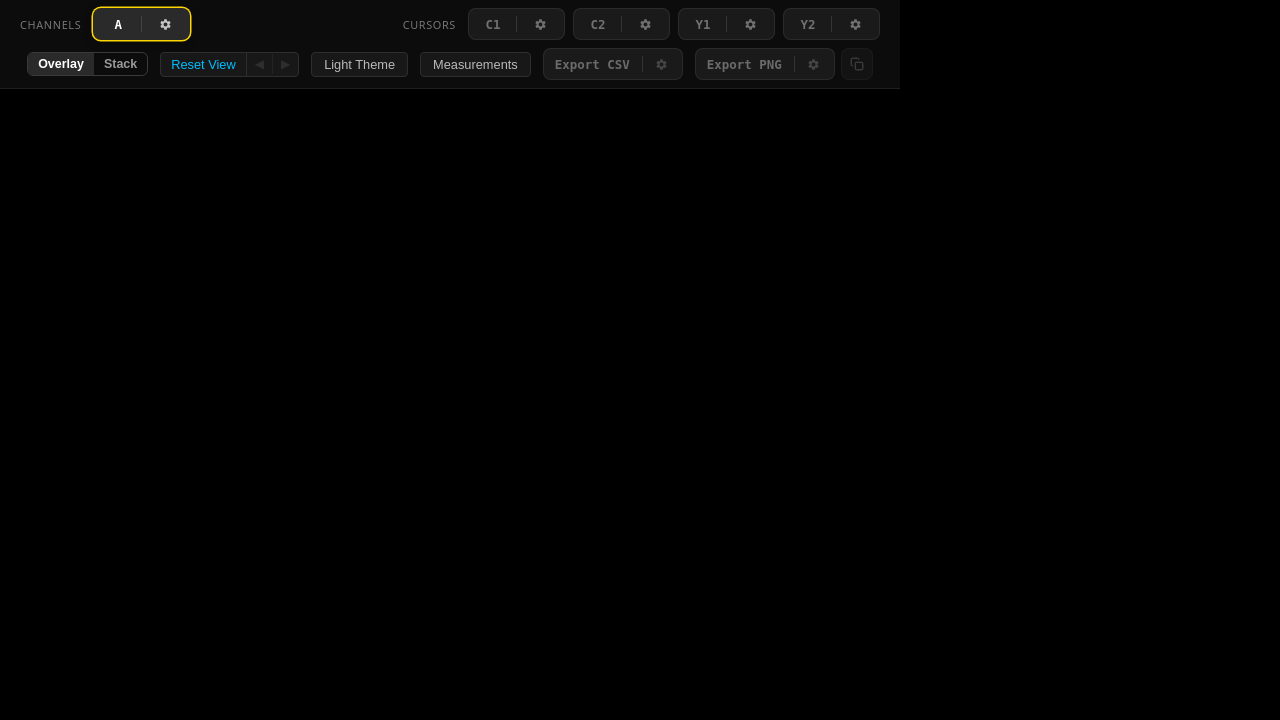
Test: WaveformToolbar (browser) › AC (#204): gear opens the config popover; retired Colors panel is gone; badge colors follow overrides
Click the button with test id "channel-gear-A".
click(166, 24)  # box [142,0,190,48]
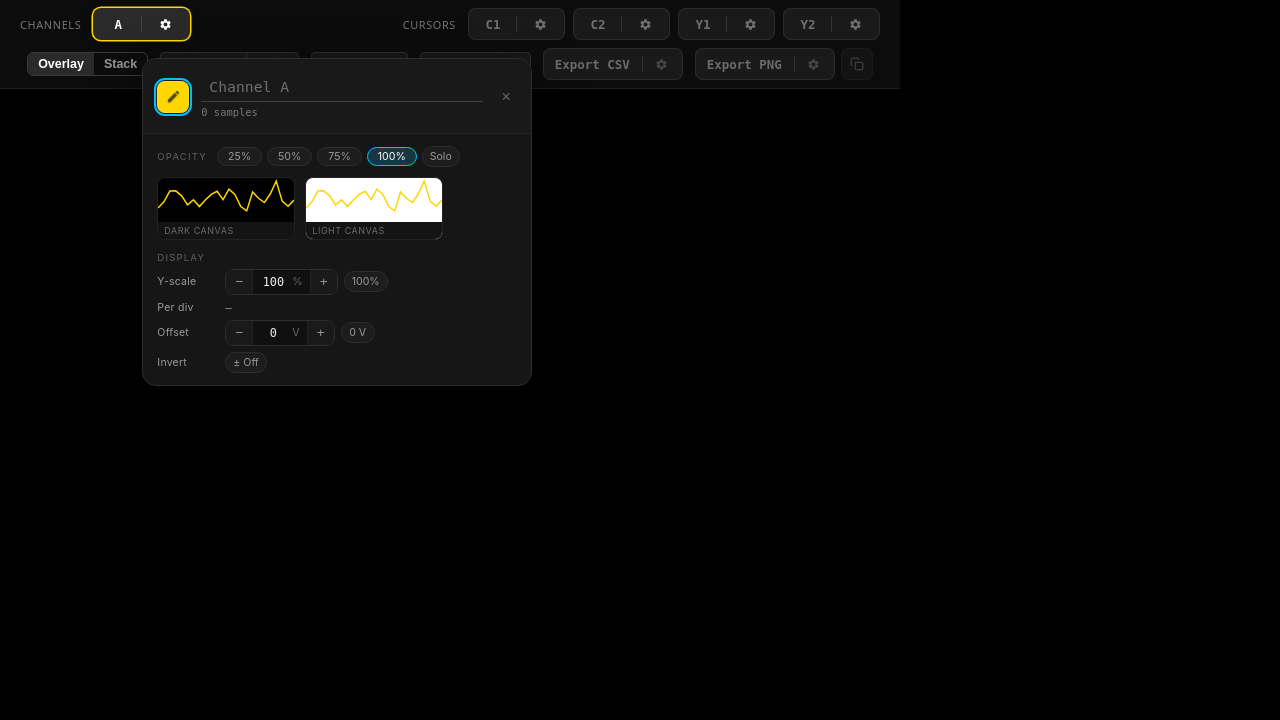
Now the button with test id "channel-gear-A" is expanded, box [142,0,190,48]
Now the dialog with test id "badge-config-popover" is shown, box [142,58,532,386]
